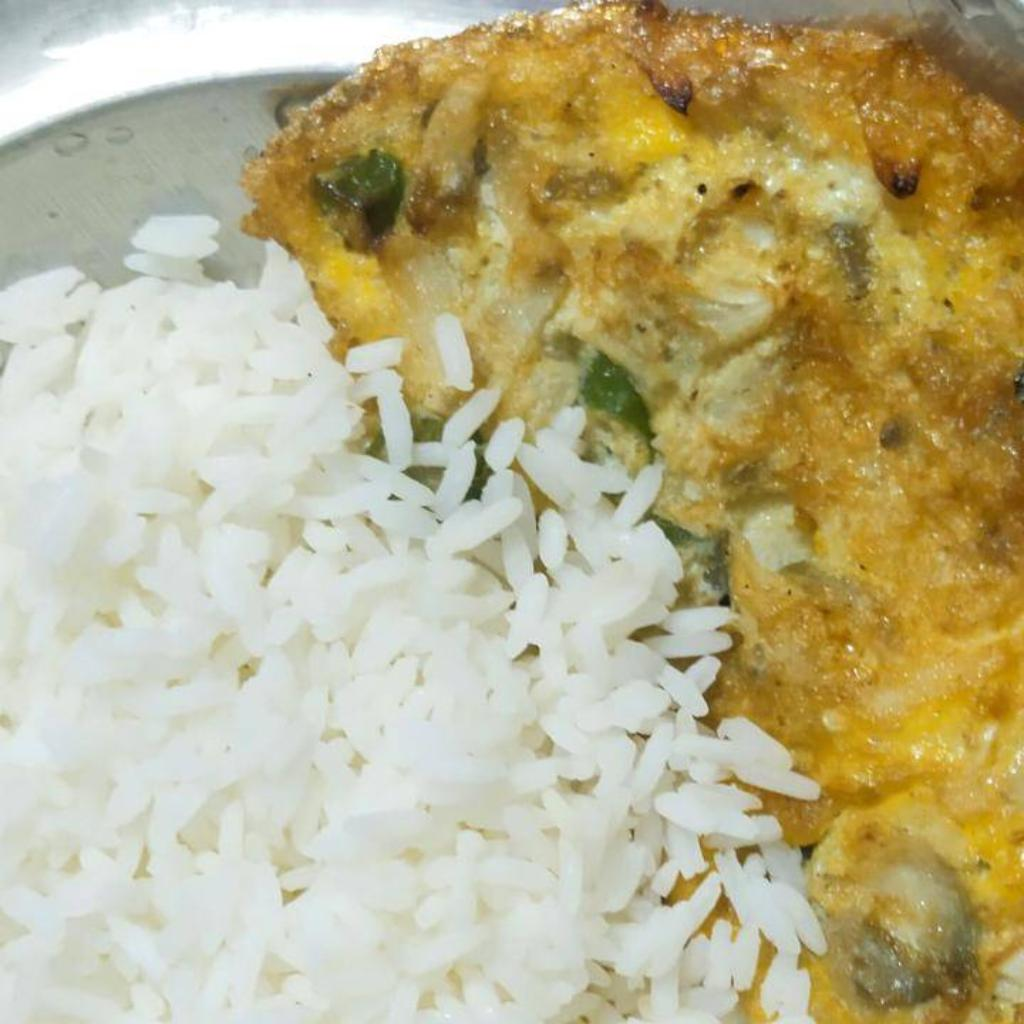egg-poached: (246, 5, 1023, 1019)
rice: (0, 211, 826, 1023)
